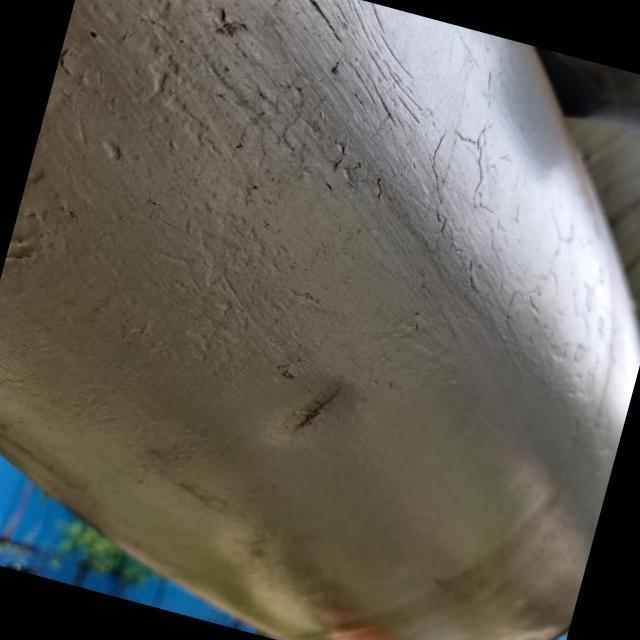Dent: (254, 334, 388, 474)
